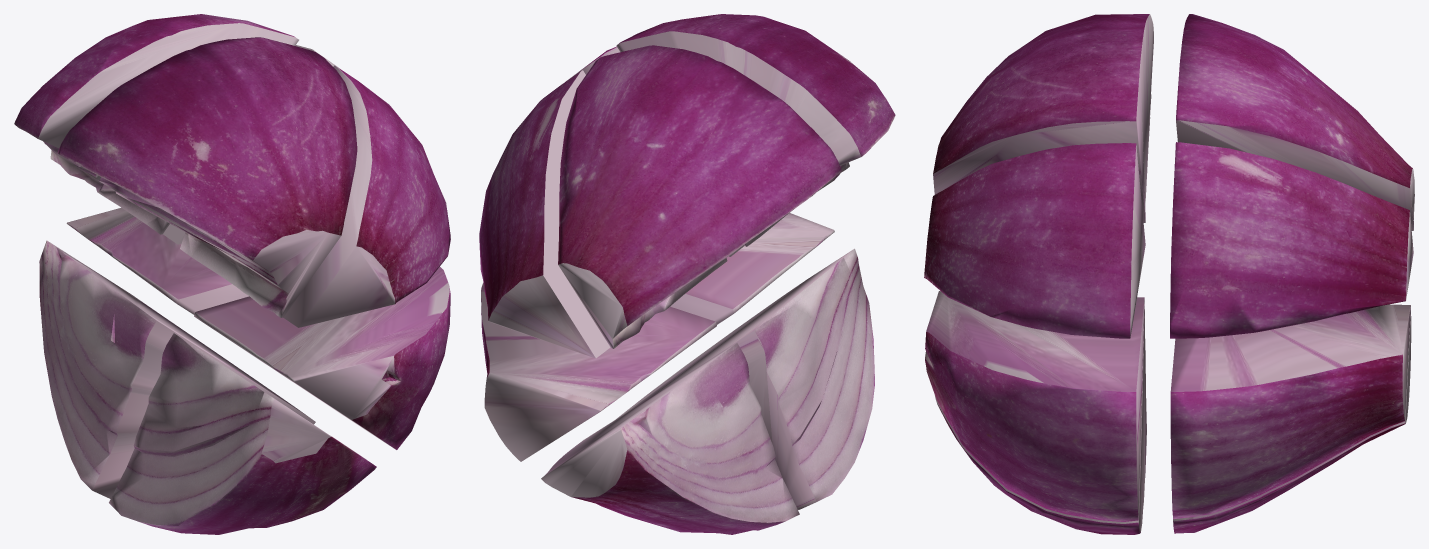
File: OnionCut04.fbx
3 views of the same model, side by side, from view 1: azimuth 30°, elevation 25°; view 2: azimuth 150°, elevation 25°; view 3: azimuth 270°, elevation 25° (orthographic). The views are drawn at different scales.
Parts seen in each view (by area): view 1: Result.003, Result.007, Result.006, Result.002, Result.005, Result, Result.001; view 2: Result, Result.006, Result.007, Result.004, Result.001, Result.003, Result.002; view 3: Result.004, Result.001, Result.002, Result.005, Result.003, Result, Result.007, Result.006.
Boxes of the visible parts, x1,y1,x2,y2 form: Result.003: (57,37,357,317); Result.007: (109,333,376,534); Result.006: (39,240,315,498); Result.002: (194,267,450,449); Result.005: (283,65,450,327); Result: (14,14,298,234); Result.001: (66,207,248,314); Result: (558,45,841,348); Result.006: (541,343,799,534); Result.007: (616,248,874,509); Result.004: (479,70,610,358); Result.001: (481,282,716,461); Result.003: (616,14,895,246); Result.002: (670,213,834,324); Result.004: (1170,142,1413,338); Result.001: (1170,304,1410,519); Result.002: (925,291,1144,521); Result.005: (924,143,1145,338); Result.003: (933,14,1153,222); Result: (1176,14,1414,230); Result.007: (935,304,1146,534); Result.006: (1173,308,1411,533).
Bounding box in the file's own units: 249 × 318 × 294.
Materials: 1 (1 with a texture image).
